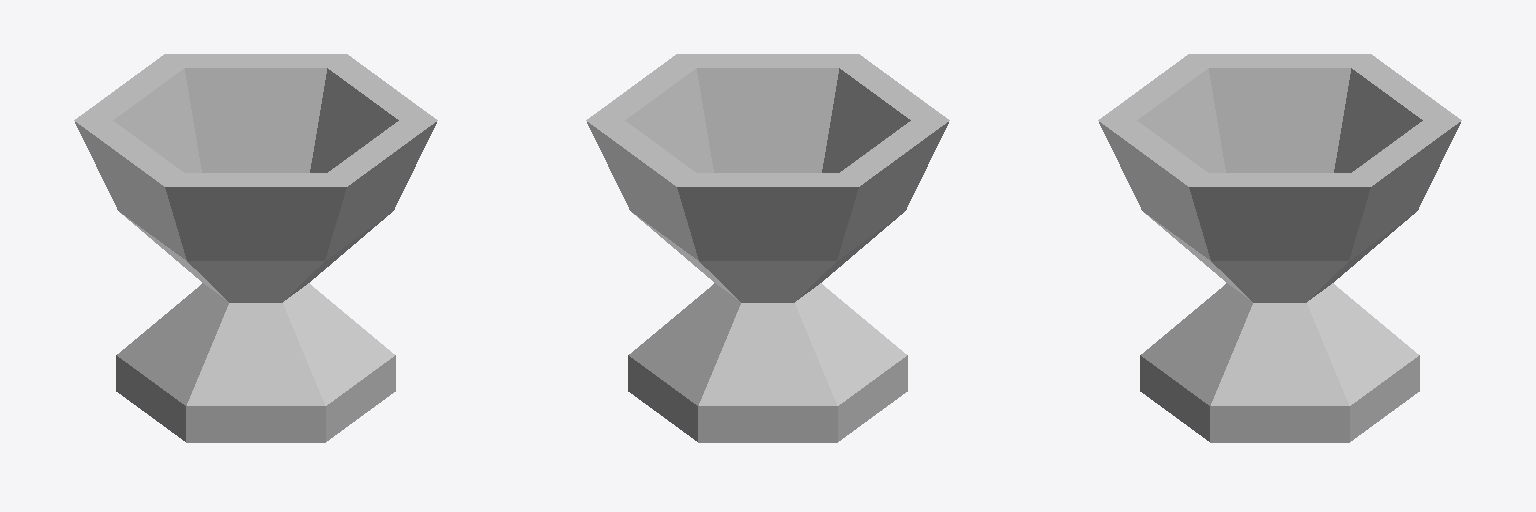
Rendered from egg-cup.obj.
3 views of the same model, side by side, from view 1: azimuth 30°, elevation 25°; view 2: azimuth 150°, elevation 25°; view 3: azimuth 270°, elevation 25° (orthographic).
Parts seen in each view (by area): view 1: egg-cup; view 2: egg-cup; view 3: egg-cup.
Part boxes in pixels (x1,y1,x2,y2): egg-cup: (74, 54, 437, 442); egg-cup: (586, 54, 949, 442); egg-cup: (1098, 54, 1461, 442).
Size of the model in its own units: 0.1581 by 0.15 by 0.1826.